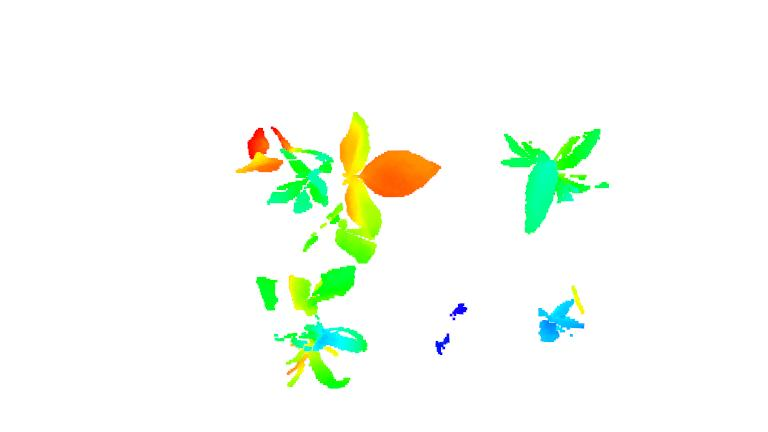mungbean: (235, 109, 445, 270), (241, 263, 374, 394), (491, 121, 620, 238), (529, 285, 597, 351)
